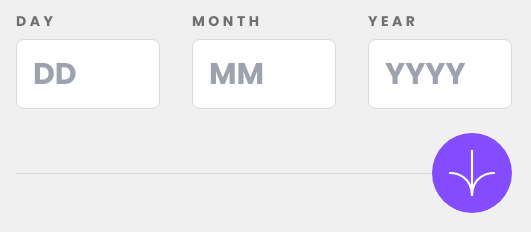
BirthForm › should show an error message when day input is empty on submit
What coordinates should you click on to do the following:
click the button
I would click on:
 (472, 173)
Its box is [432, 133, 512, 213].
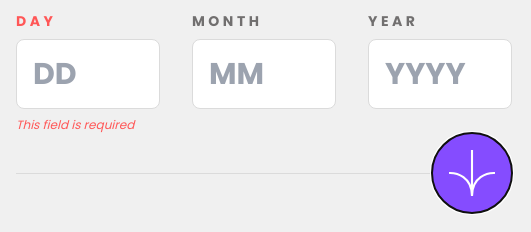
Result: the text "Must be a valid day" reads "This field is required" at [16, 116, 134, 133]
